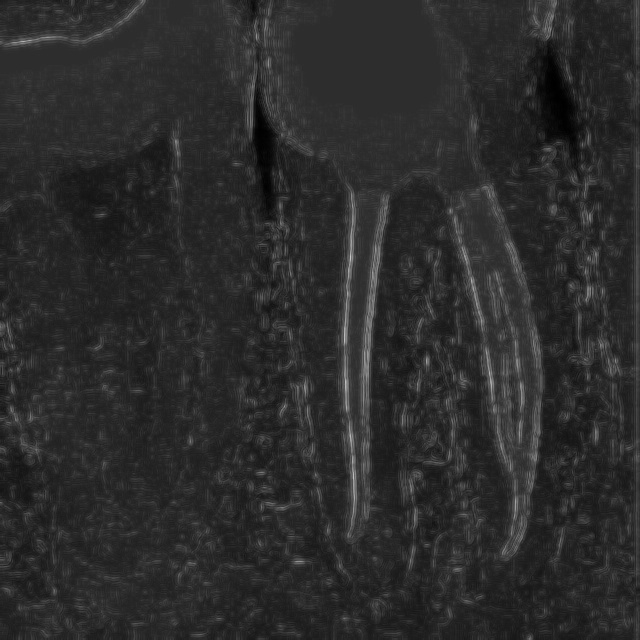Class 0- No endodontic treatment: (243, 47, 615, 618)
cavity: (1, 32, 329, 626)
